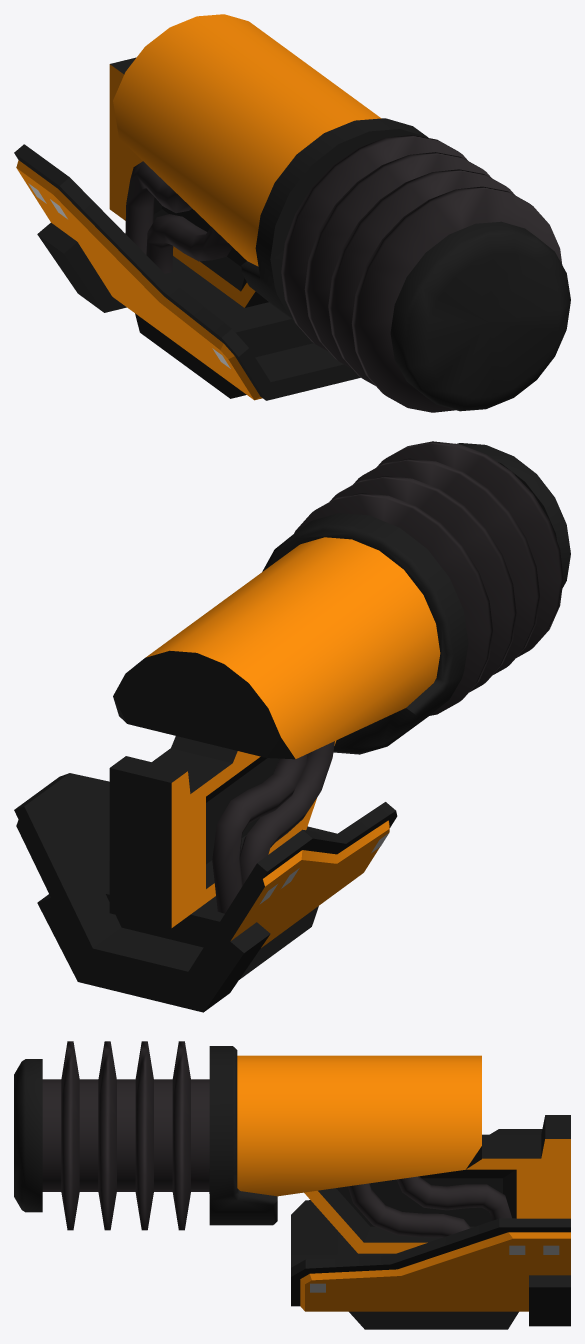
File: PowerConnector_Compact.obj
3 renders of one model, top to bottom at view 1: azimuth 30°, elevation 25°; view 2: azimuth 150°, elevation 25°; view 3: azimuth 270°, elevation 25°, orthographic. The views are drawn at different scales.
Parts seen in each view (by area): view 1: PowerConnector_Compact; view 2: PowerConnector_Compact; view 3: PowerConnector_Compact.
Part boxes in pixels (x1,y1,x2,y2): PowerConnector_Compact: (14,14,570,412); PowerConnector_Compact: (14,441,570,1012); PowerConnector_Compact: (14,1041,570,1329).
Size of the model in its own units: 71.59 by 90.4 by 173.
